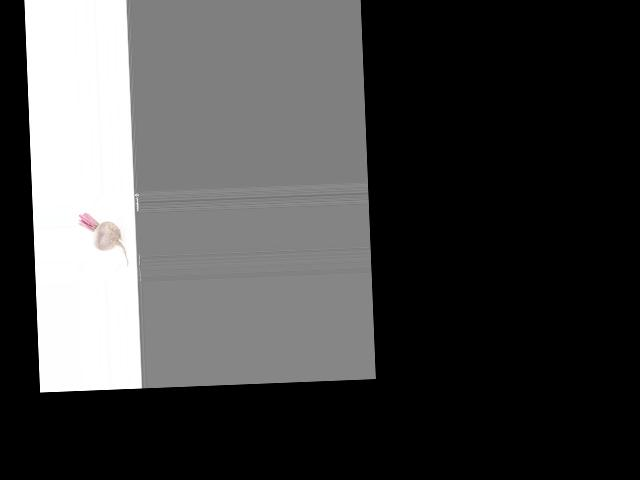beet: (78, 211, 128, 269)
